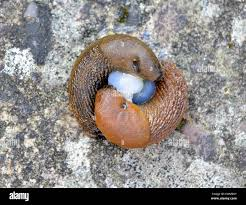slug: (59, 33, 159, 145), (94, 77, 189, 143)
